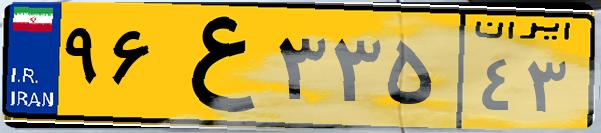3: (270, 28, 330, 110), (330, 28, 385, 110), (525, 38, 570, 115)
4: (475, 38, 525, 113)
5: (385, 28, 445, 110)
6: (110, 28, 158, 98)
9: (57, 26, 110, 100)
ع: (158, 12, 270, 120)
